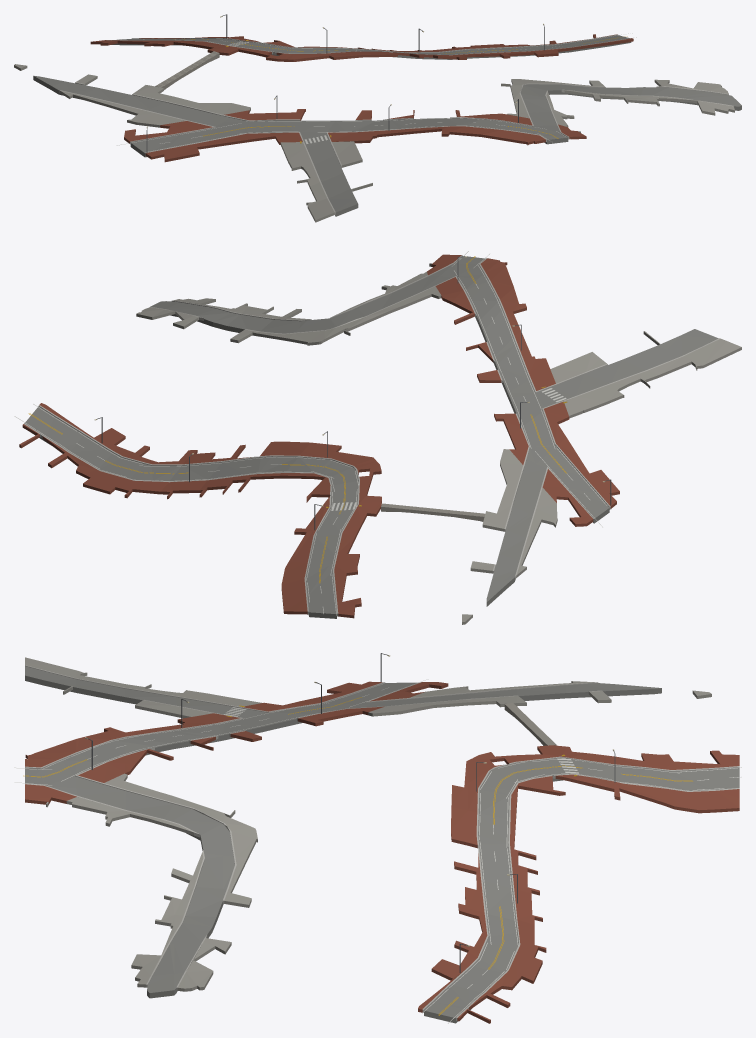
3 renders of one model, top to bottom at view 1: azimuth 30°, elevation 25°; view 2: azimuth 150°, elevation 25°; view 3: azimuth 270°, elevation 25°, orthographic. The views are drawn at different scales.
Bounding box in the file's own units: 154 × 32.72 × 149.
